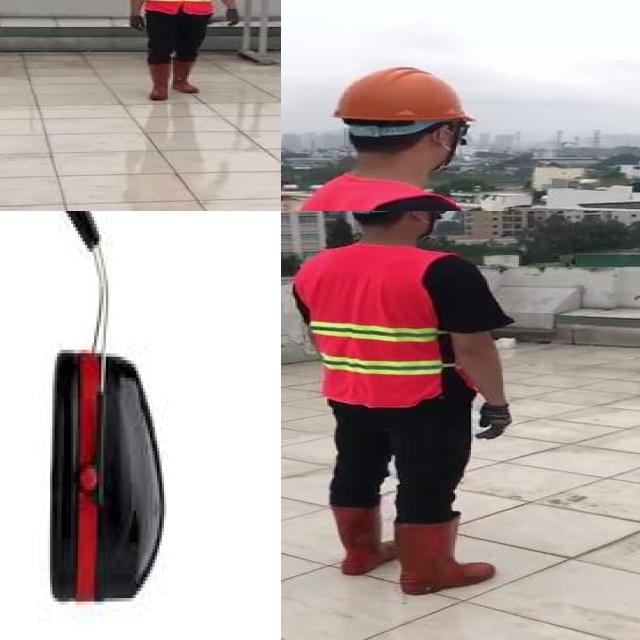Ear-protection: (0, 211, 173, 626)
boots: (396, 514, 499, 594), (322, 501, 394, 579), (143, 60, 175, 101), (172, 59, 202, 95)
hand_glove: (482, 402, 516, 443), (221, 7, 241, 26), (129, 14, 148, 32)
head_helmet: (320, 61, 475, 126)
person: (281, 211, 518, 600), (281, 56, 545, 211), (122, 0, 244, 104)
vest: (292, 244, 458, 411), (144, 0, 217, 16)
